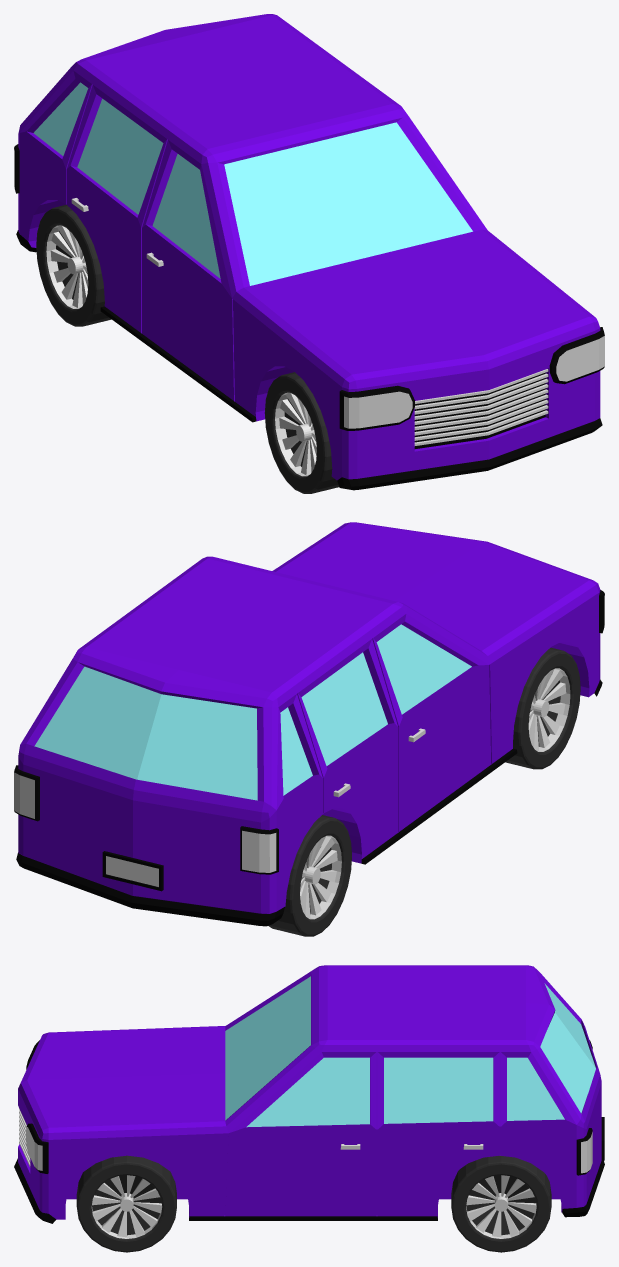
Rendered from CarMesh.fbx.
3 renders of one model, top to bottom at view 1: azimuth 30°, elevation 25°; view 2: azimuth 150°, elevation 25°; view 3: azimuth 270°, elevation 25°, orthographic. The views are drawn at different scales.
Parts seen in each view (by area): view 1: Body, WheelRR, WheelFR; view 2: Body, WheelRR, WheelFR; view 3: Body, WheelRL, WheelFL.
Part boxes in pixels (x1=…): Body: x1=14, y1=14, x2=604, y2=490; WheelRR: x1=36, y1=204, x2=111, y2=326; WheelFR: x1=264, y1=372, x2=339, y2=493; Body: x1=14, y1=522, x2=604, y2=926; WheelRR: x1=268, y1=815, x2=351, y2=936; WheelFR: x1=505, y1=647, x2=580, y2=769; Body: x1=14, y1=965, x2=604, y2=1223; WheelRL: x1=451, y1=1155, x2=551, y2=1252; WheelFL: x1=76, y1=1155, x2=176, y2=1252.
Bounding box in the file's own units: 174 × 152 × 408.
